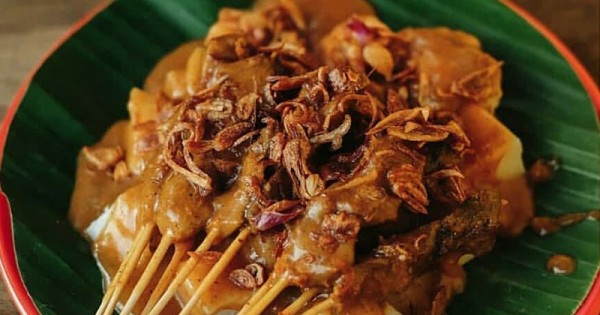sate: (72, 6, 548, 310)
